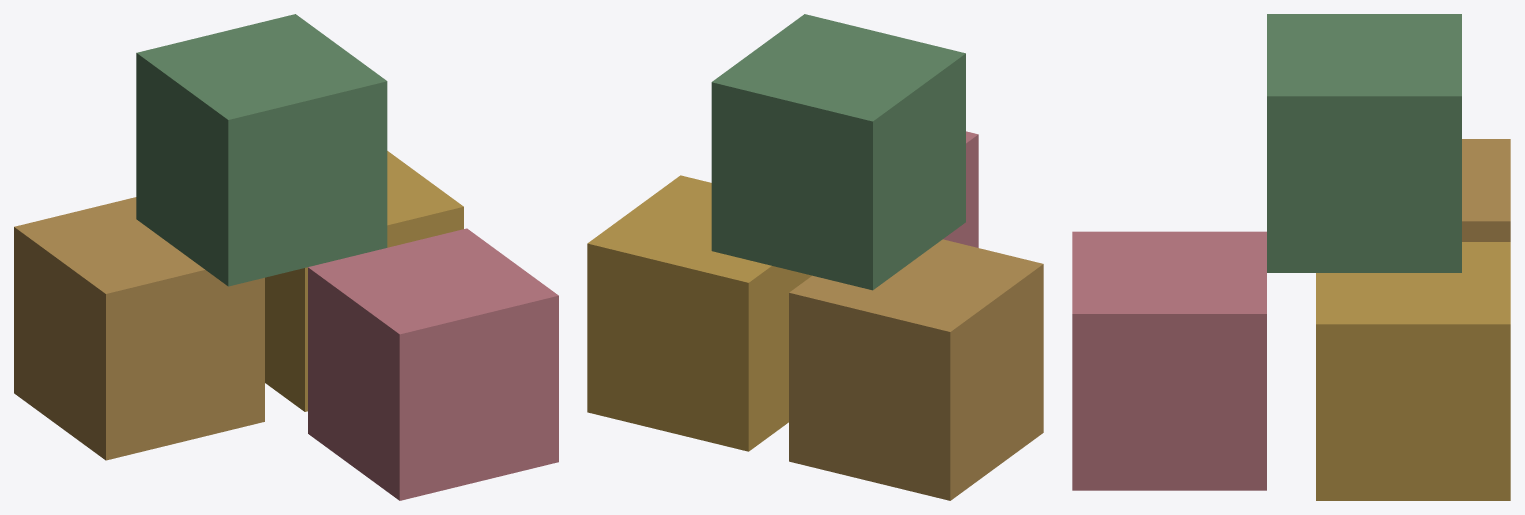
File: construction-05.glb
3 views of the same model, side by side, from view 1: azimuth 30°, elevation 25°; view 2: azimuth 150°, elevation 25°; view 3: azimuth 270°, elevation 25° (orthographic). The views are drawn at different scales.
Parts seen in each view (by area): view 1: Brick stack; view 2: Brick stack; view 3: Brick stack.
Part boxes in pixels (left/top/right/bottom): Brick stack: left=14, top=14, right=558, bottom=500; Brick stack: left=587, top=14, right=1043, bottom=500; Brick stack: left=1072, top=14, right=1510, bottom=500.
Bounding box in the file's own units: 1.44 × 1.28 × 1.44.
